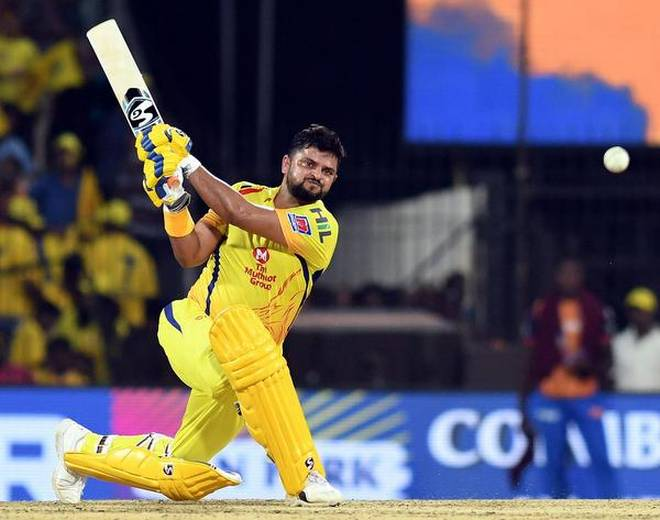LeftElbow: (221, 162, 258, 239)
LeftShoulder: (301, 196, 355, 263)
RightElbow: (165, 226, 212, 274)
